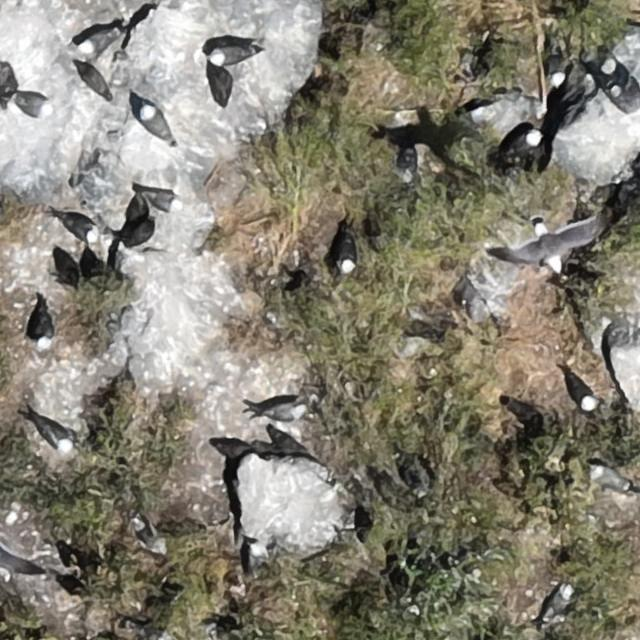F: (496, 214, 602, 270)
umineko: (545, 584, 571, 619), (141, 107, 168, 140), (594, 468, 631, 492), (134, 521, 160, 553), (62, 217, 98, 240), (44, 423, 72, 451), (80, 31, 112, 54), (13, 94, 48, 115), (572, 380, 596, 410), (265, 402, 303, 420), (510, 130, 540, 152), (212, 47, 246, 65), (338, 236, 355, 270), (38, 314, 55, 348), (146, 190, 175, 209), (247, 543, 267, 570), (549, 52, 564, 85)
